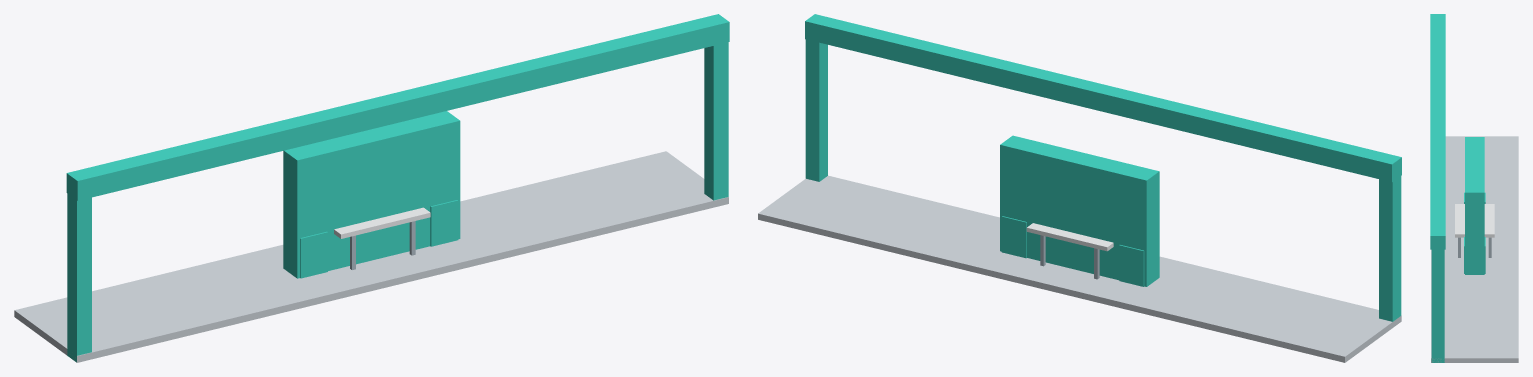
The picture shows the model from 3 angles, left to right: view 1: azimuth 30°, elevation 25°; view 2: azimuth 150°, elevation 25°; view 3: azimuth 270°, elevation 25°; orthographic projection. The views are drawn at different scales.
Parts seen in each view (by area): view 1: Exhibition Booth Concept; view 2: Exhibition Booth Concept; view 3: Exhibition Booth Concept.
Part boxes in pixels (x1,y1,x2,y2): Exhibition Booth Concept: [14, 14, 729, 362]; Exhibition Booth Concept: [758, 14, 1401, 362]; Exhibition Booth Concept: [1430, 14, 1518, 362].
Size of the model in its own units: 12 by 3.2 by 2.01.
